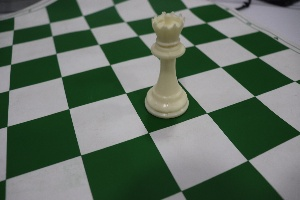white_queen: (140, 5, 191, 124)
